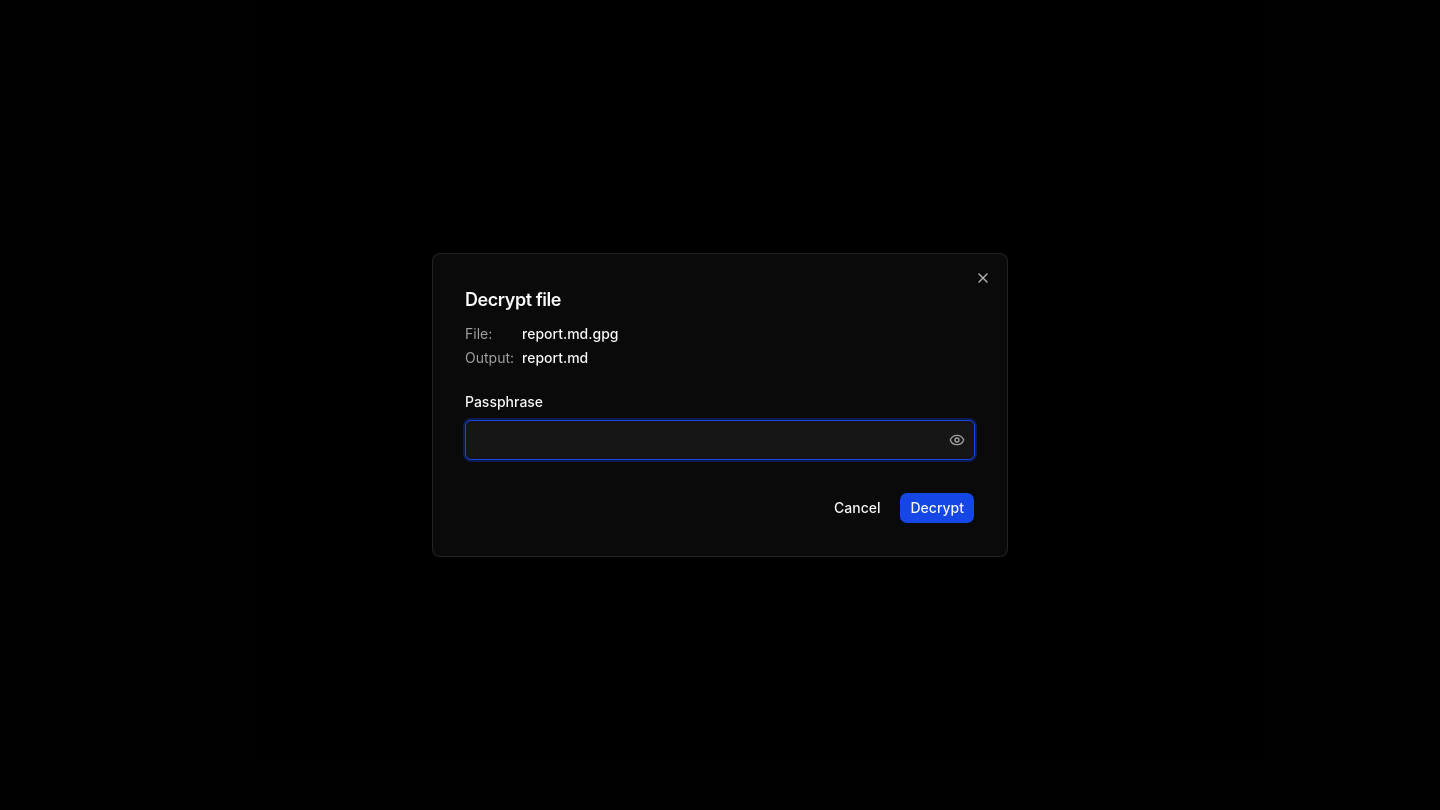
Test: DecryptDialog › shows "must not be empty" error when submitting with blank passphrase
Click the button "Decrypt".
click(937, 508)  # box [900,492,975,524]
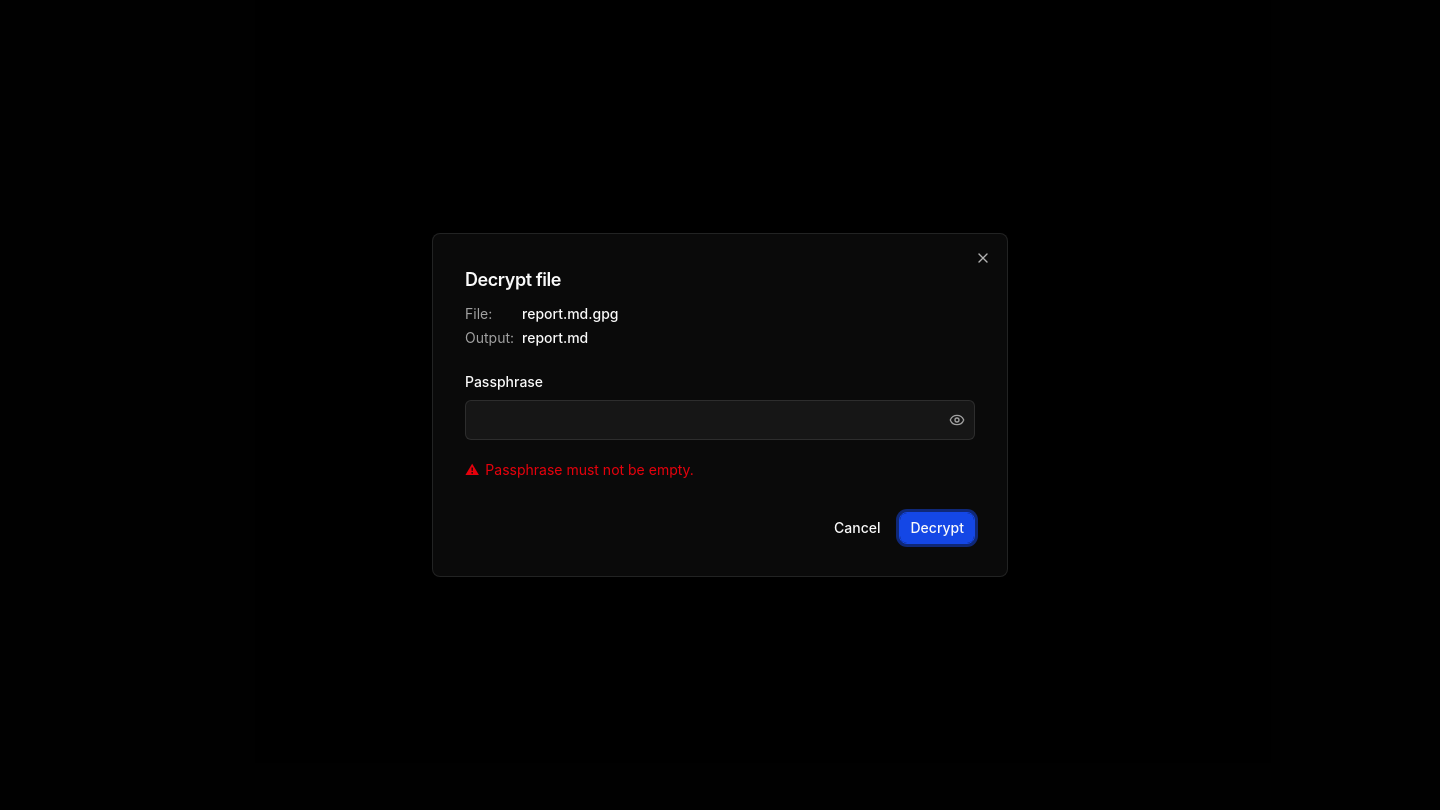
Expected: the message shows "Passphrase must not be empty.", [485,461,694,478]
